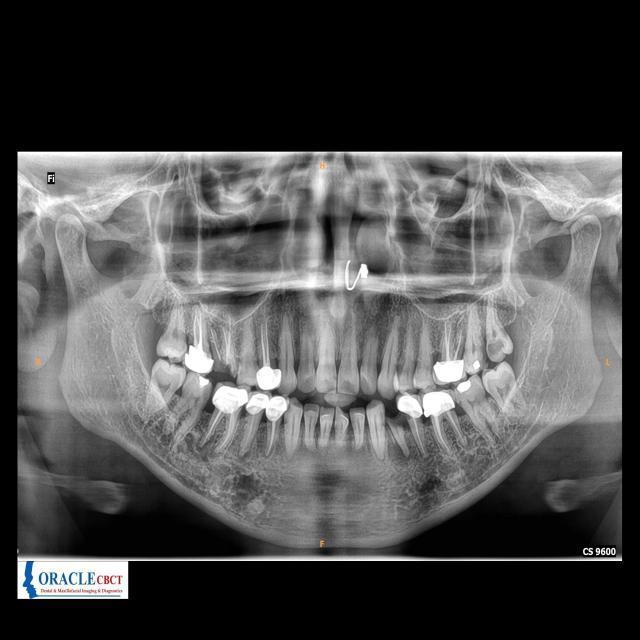dentin-curugu: (212, 354, 240, 380), (386, 401, 411, 430), (337, 372, 356, 394), (487, 339, 507, 357), (360, 376, 371, 393)
dolgu: (191, 371, 217, 391), (458, 381, 477, 395), (470, 356, 481, 374)
kanal-tedavisi: (429, 415, 465, 448), (205, 412, 233, 454), (436, 319, 464, 357), (216, 318, 234, 358), (406, 418, 427, 451), (191, 310, 205, 348), (259, 320, 271, 364), (246, 415, 260, 445), (267, 420, 280, 452)
kaplama: (212, 384, 248, 413), (432, 356, 464, 384), (183, 348, 213, 373), (425, 391, 455, 416), (264, 395, 290, 422), (399, 394, 426, 420), (255, 365, 283, 388), (248, 392, 269, 413)
